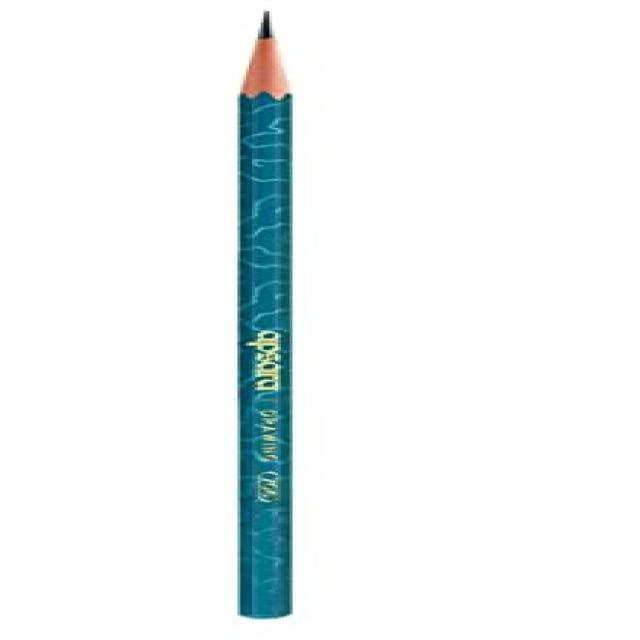pencil: (223, 0, 310, 622)
